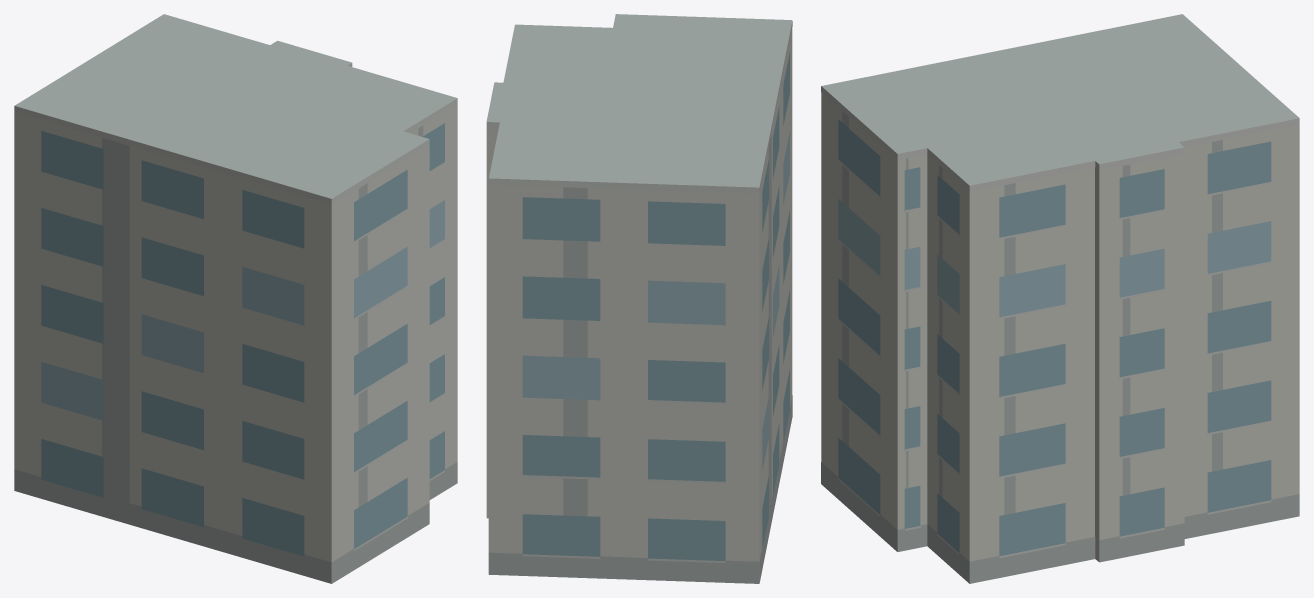
The model's file is residential-195f86bc-9e56-4f6e-aef5-664800d7bffe.glb.
3 views of the same model, side by side, from view 1: azimuth 30°, elevation 25°; view 2: azimuth 150°, elevation 25°; view 3: azimuth 270°, elevation 25° (orthographic). The views are drawn at different scales.
Parts seen in each view (by area): view 1: residential-195f86bc-9e56-4f6e-aef5-664800d7bffe.tmp; view 2: residential-195f86bc-9e56-4f6e-aef5-664800d7bffe.tmp; view 3: residential-195f86bc-9e56-4f6e-aef5-664800d7bffe.tmp.
Part boxes in pixels (x1,y1,x2,y2): residential-195f86bc-9e56-4f6e-aef5-664800d7bffe.tmp: (14,14,457,583); residential-195f86bc-9e56-4f6e-aef5-664800d7bffe.tmp: (486,14,792,583); residential-195f86bc-9e56-4f6e-aef5-664800d7bffe.tmp: (821,14,1299,583).
Bounding box in the file's own units: 14.12 × 15.25 × 16.62.
